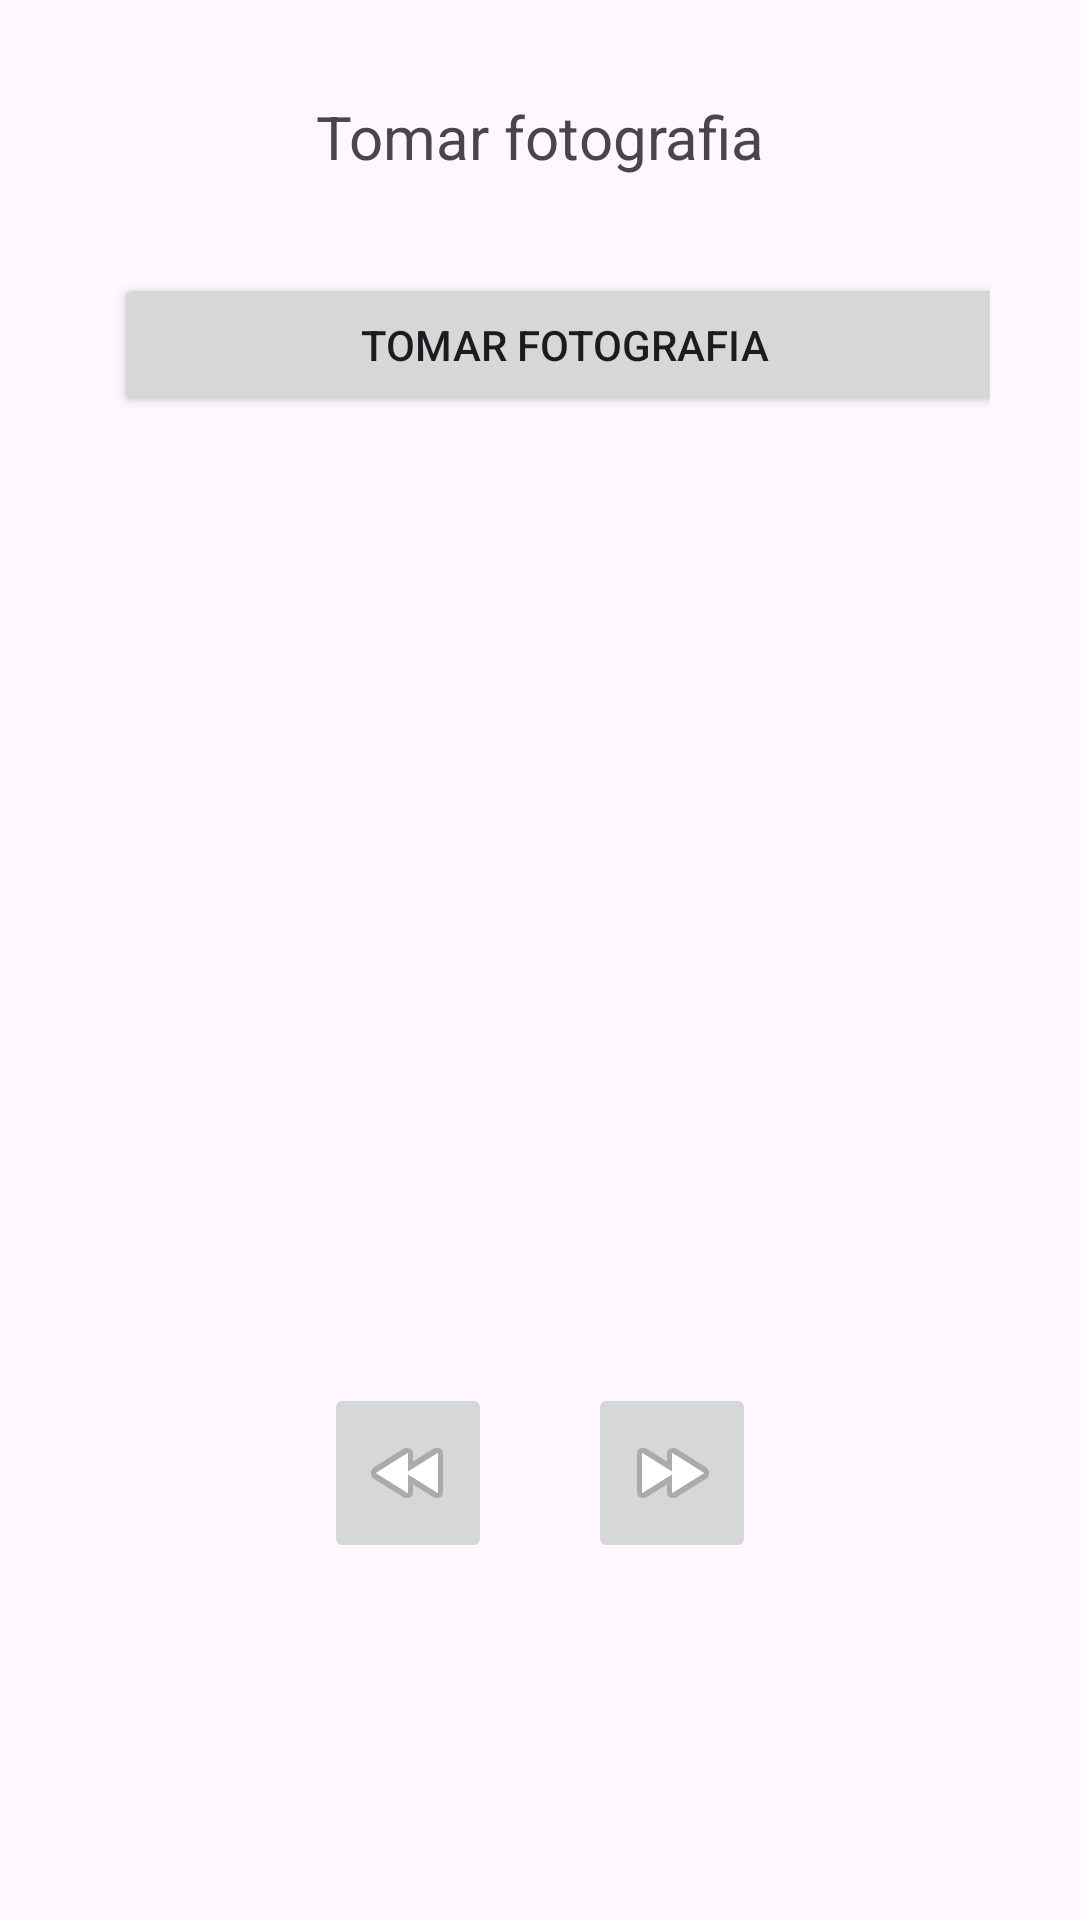

Icons on this 1080px x 1920px Android screen, each with its box as (x1=x1, y1=y1, x2=x2, y2=y2):
rew: (x1=336, y1=1401, x2=480, y2=1545)
